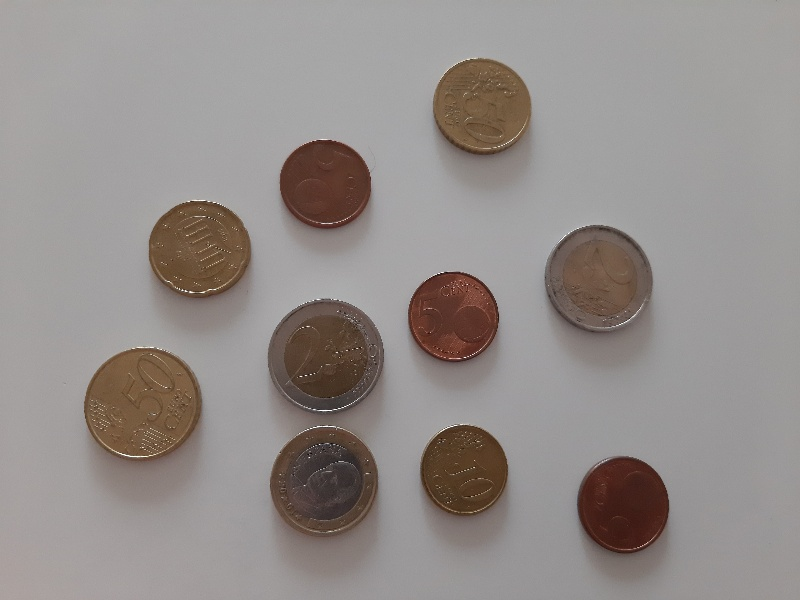1 euro: (268, 421, 383, 541)
10 cent: (418, 421, 512, 520)
2 euro: (264, 295, 387, 416), (541, 221, 659, 337)
20 cent: (145, 196, 253, 300)
5 cent: (574, 452, 673, 554), (405, 268, 504, 364), (277, 136, 376, 228)
50 cent: (79, 344, 207, 465), (430, 54, 536, 159)
